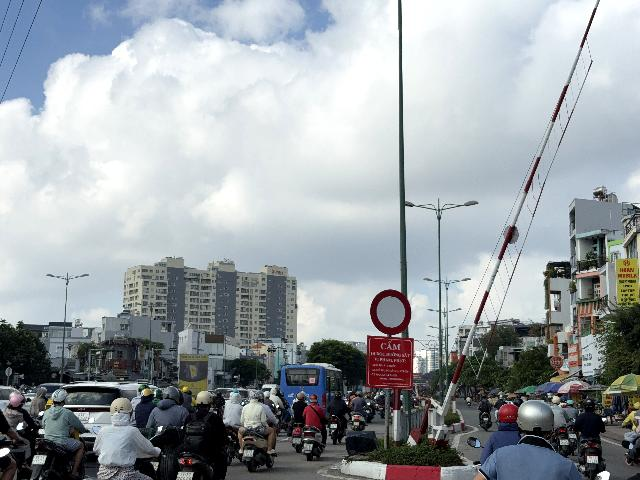duong-cam: (370, 289, 412, 335)
